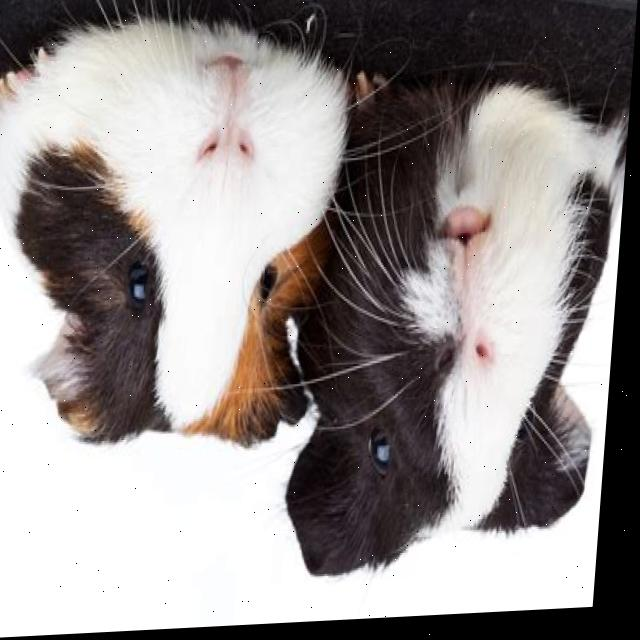guinea pig: (287, 84, 623, 585), (0, 13, 355, 461)
